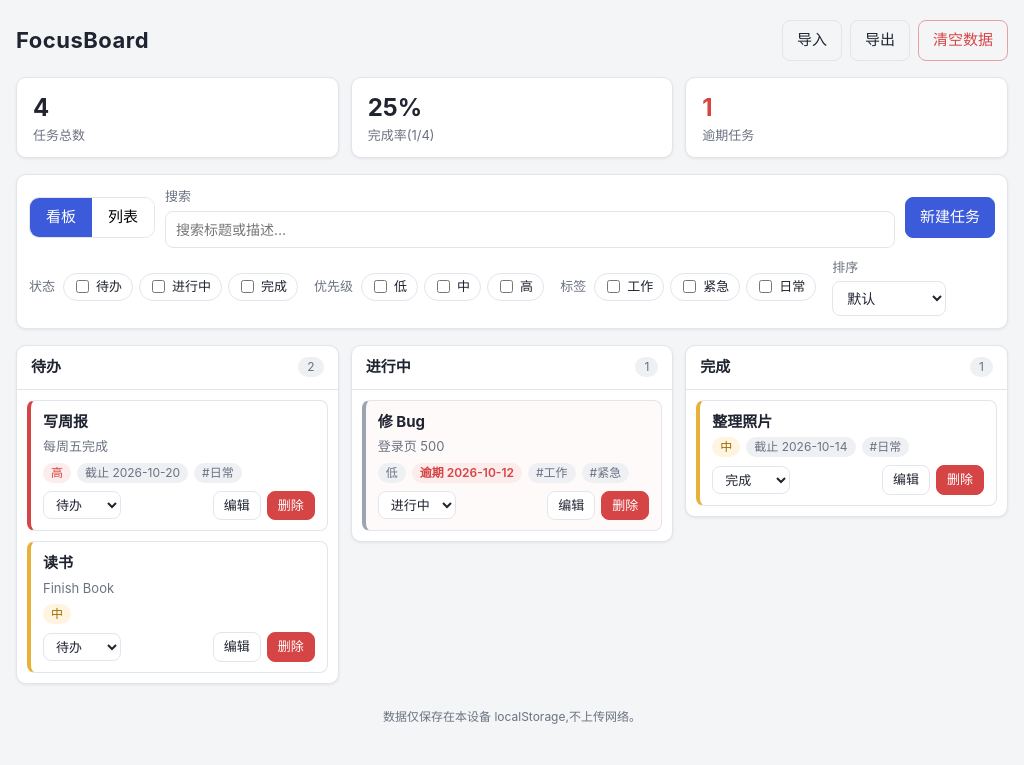
CRUD 与表单校验 › 创建任务:标题 trim,字段写入存储
Click the button "新建任务" at [950, 217], box 905,197 -> 995,238
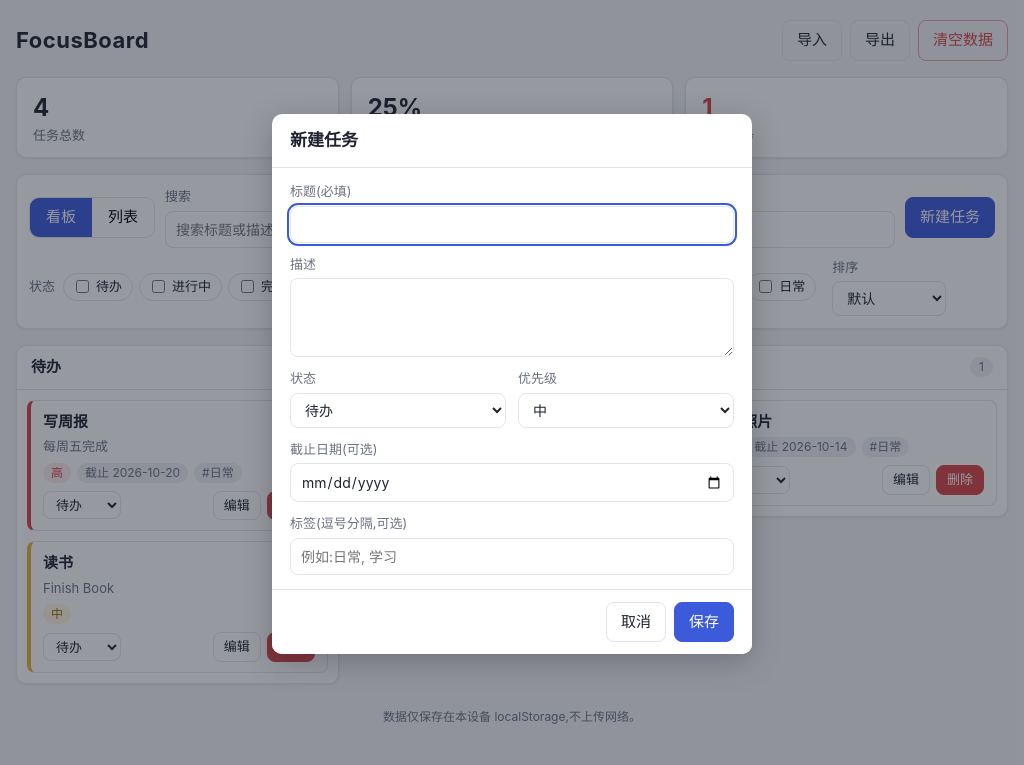
Type "  新任务  " into the field with test id "field-title" at [512, 224], box 290,206 -> 734,243
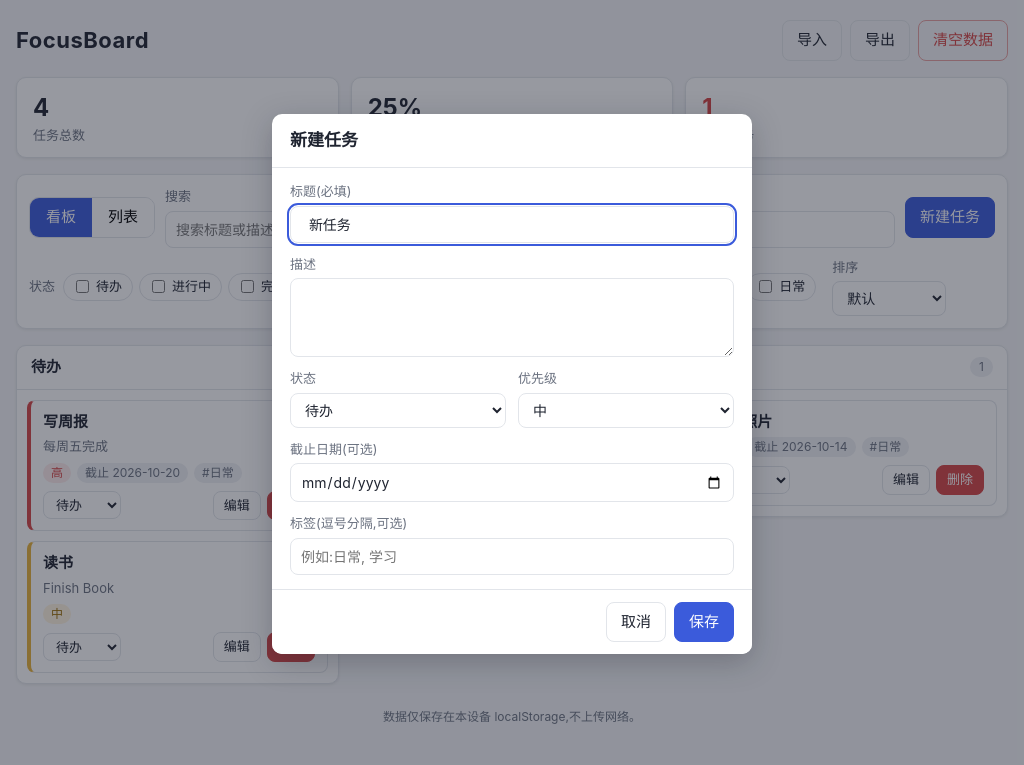
Type "备注内容" into the text box with test id "field-description" at [512, 318], box 290,278 -> 734,357
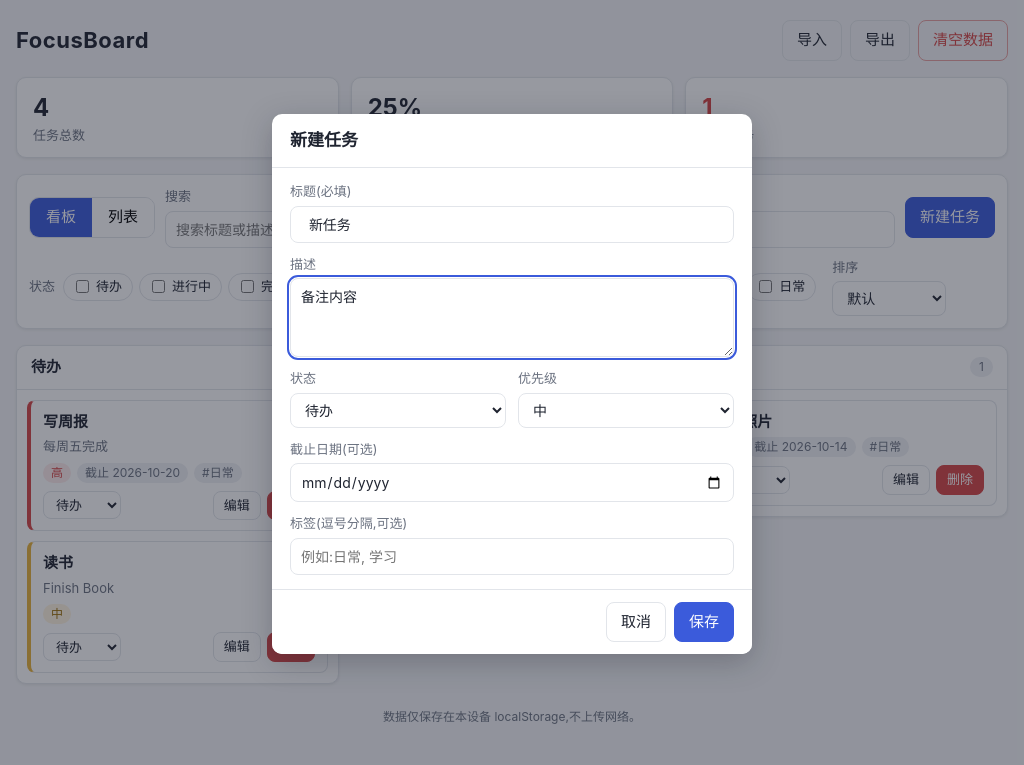
Type "测试, 样例" into the field with test id "field-tags" at [512, 556], box 290,538 -> 734,575
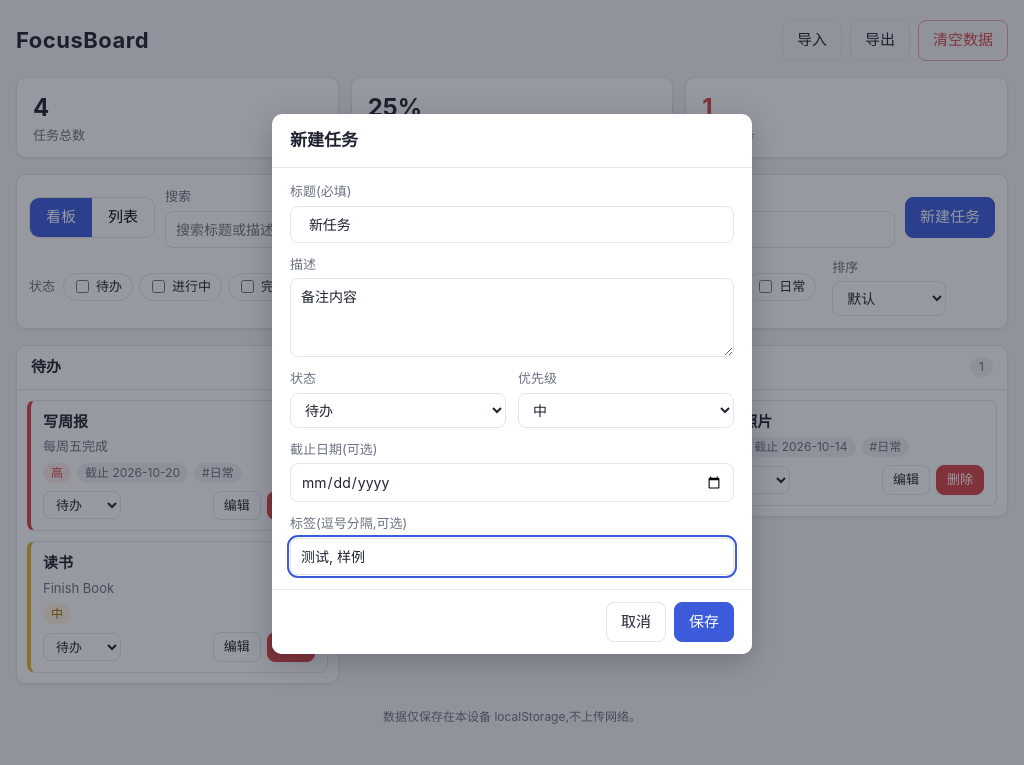
Click the button "保存" at [704, 622], box 674,602 -> 734,642
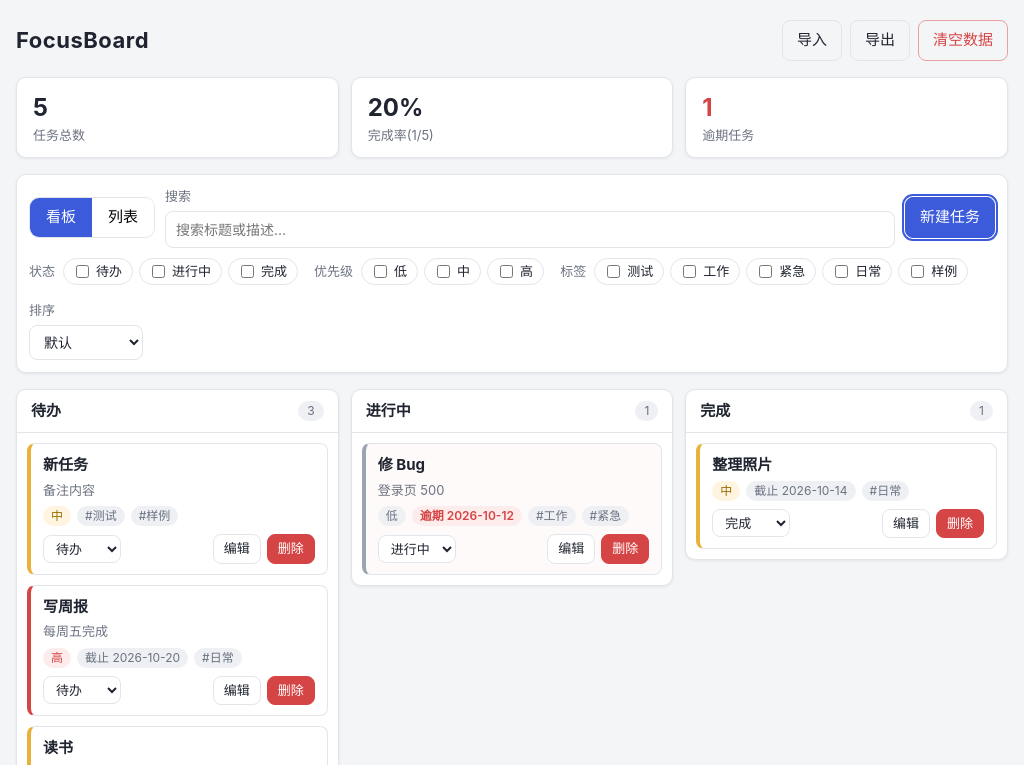
Now the text "备注内容" is shown, box 43,482 -> 95,498
Now the heading "新任务" is shown, box 43,455 -> 88,474
